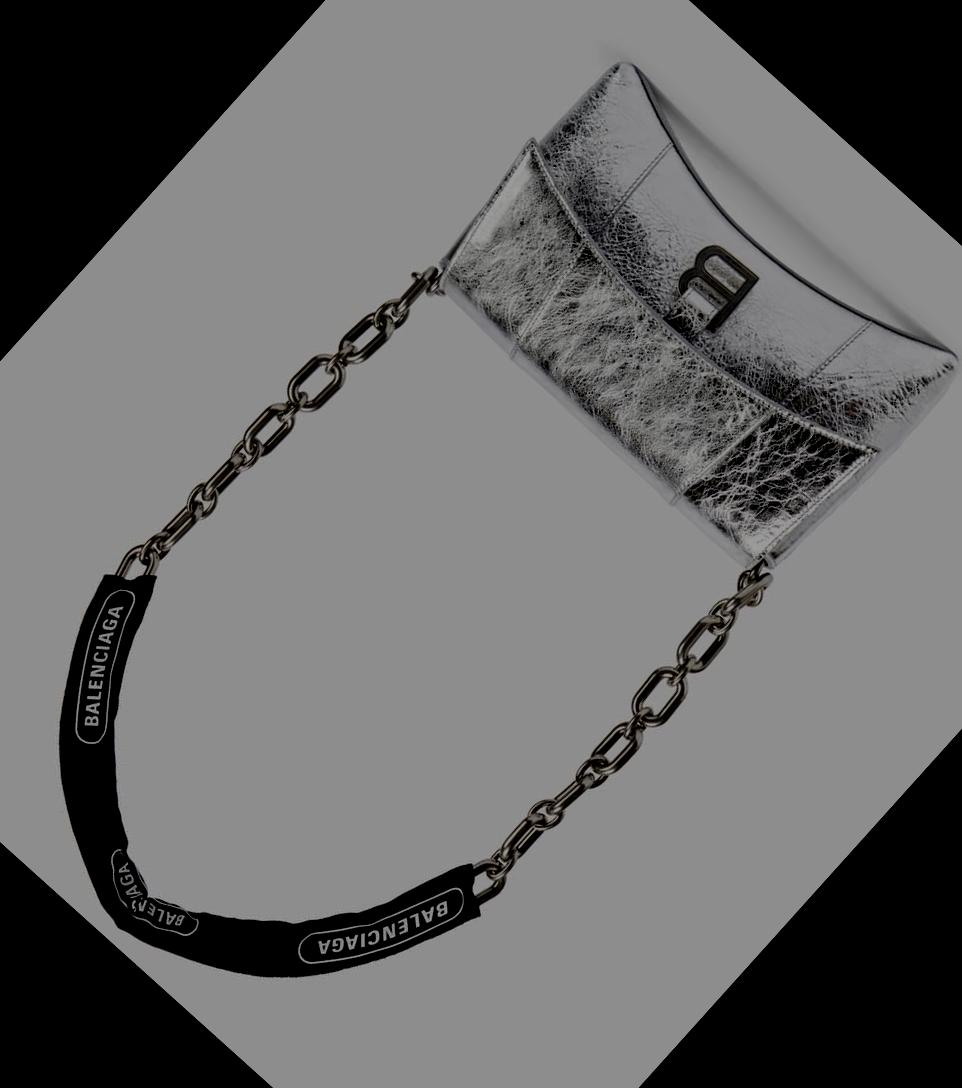BALENCIAGA: (310, 852, 454, 999), (38, 598, 170, 732), (104, 859, 188, 940)
